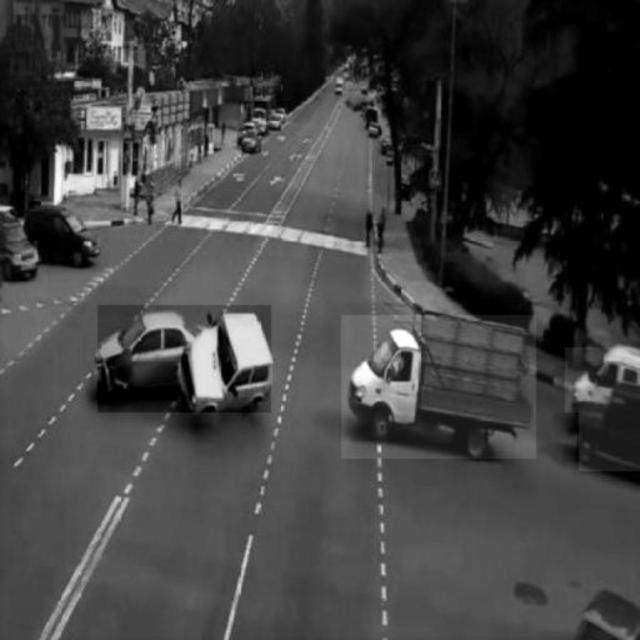accident: (97, 305, 271, 413)
vehicle: (342, 315, 537, 459), (24, 202, 110, 273), (579, 384, 640, 472), (565, 348, 639, 412)
